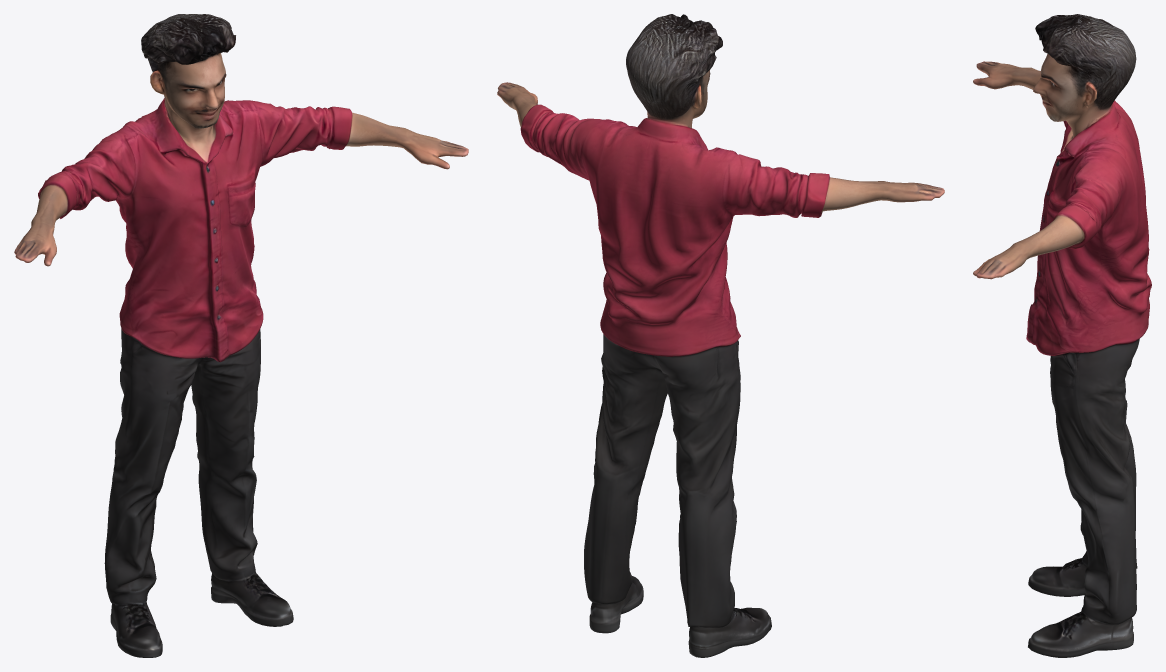
Rendered from hyper3d-photo-boy-tpose.glb.
3 renders of one model, left to right at view 1: azimuth 30°, elevation 25°; view 2: azimuth 150°, elevation 25°; view 3: azimuth 270°, elevation 25°, orthographic.
Parts seen in each view (by area): view 1: model; view 2: model; view 3: model.
Boxes of the visible parts, left/top/right/bottom form: model: left=14, top=14, right=468, bottom=657; model: left=497, top=14, right=944, bottom=657; model: left=973, top=14, right=1151, bottom=657.
Bounding box in the file's own units: 1.46 × 1.9 × 0.513.
1 material, 1 textured.
